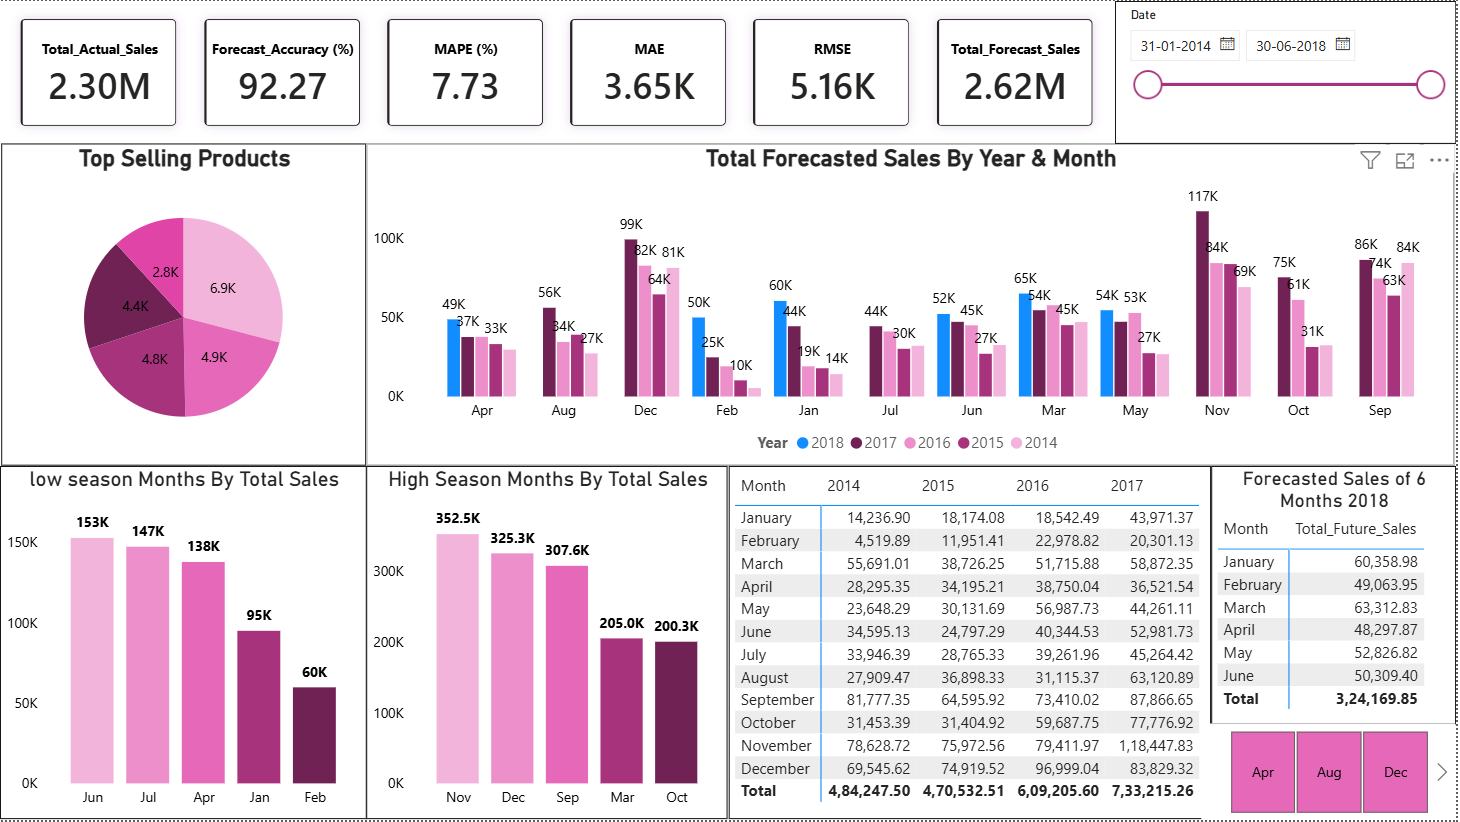

The page's visual inventory and layout, read from the dashboard file:
{"tool":"powerbi","page":{"name":"Page 1","canvas":[1280,720],"ordinal":0},"visuals":[{"type":"cardVisual","fields":{"Data":["sales_forecast_powerbi.Total_Actual_Sales","sales_forecast_powerbi.Forecast_Accuracy (%)","sales_forecast_powerbi.MAPE (%)","sales_forecast_powerbi.MAE","sales_forecast_powerbi.RMSE","sales_forecast_powerbi.Total_Forecast_Sales"]},"box":[1.9,0,977,126.6],"z":0},{"type":"pivotTable","fields":{"Rows":["sales_forecast_powerbi.YearMonth.Variation.Date Hierarchy.Month"],"Values":["Sum(sales_forecast_powerbi.Actual_sales)"],"Columns":["sales_forecast_powerbi.Year"]},"box":[640.5,408.8,424,310.4],"z":1000},{"type":"pivotTable","title":"Forecasted Sales of 6 Months 2018","fields":{"Values":["sales_forecast_powerbi.Total_Future_Sales"],"Rows":["sales_forecast_powerbi.YearMonth.Variation.Date Hierarchy.Month"]},"box":[1064.5,408.8,215,227.1],"z":2000},{"type":"pieChart","title":"Top Selling Products","fields":{"Category":["SuperStoreCleaned.Product Name"],"Y":["Sum(SuperStoreCleaned.Sales)"]},"box":[1.5,125.7,321,283.2],"z":3000},{"type":"lineStackedColumnComboChart","title":"low season Months By Total Sales","fields":{"Category":["sales_forecast_powerbi.Month_Name"],"Y":["sales_forecast_powerbi.Total_Actual_Sales"]},"box":[0,408.8,322.5,310.4],"z":4000},{"type":"lineStackedColumnComboChart","title":"High Season Months By Total Sales","fields":{"Category":["sales_forecast_powerbi.Month_Name"],"Y":["sales_forecast_powerbi.Total_Actual_Sales"]},"box":[322.5,408.8,318,310.4],"z":5000},{"type":"clusteredColumnChart","title":"Total Forecasted Sales By Year & Month","fields":{"Category":["sales_forecast_powerbi.Month_Name"],"Series":["sales_forecast_powerbi.YearMonth.Variation.Date Hierarchy.Year"],"Y":["sales_forecast_powerbi.Total_Forecast_Sales"]},"box":[322.5,125.7,957,283.2],"z":6000},{"type":"slicer","fields":{"Values":["sales_forecast_powerbi.Date"]},"box":[979.7,0,299.8,125.7],"z":7000},{"type":"slicer","fields":{"Values":["sales_forecast_powerbi.Month_Name"]},"box":[1056.4,635,223,85],"z":8000}]}

Visuals, with their boxes in screenshot pixels (x1, y1, x2, y2), scaled from the page's 1280x720 canvas onto the 1460x822 screenshot:
cardVisual - sales_forecast_powerbi.Total_Actual_Sales x sales_forecast_powerbi.Forecast_Accuracy (%): left=2, top=0, right=1117, bottom=145
pivotTable - sales_forecast_powerbi.YearMonth.Variation.Date Hierarchy.Month x Sum(sales_forecast_powerbi.Actual_sales): left=731, top=467, right=1214, bottom=821
"Forecasted Sales of 6 Months 2018" pivotTable: left=1214, top=467, right=1459, bottom=726
"Top Selling Products" pieChart: left=2, top=144, right=368, bottom=467
"low season Months By Total Sales" lineStackedColumnComboChart: left=0, top=467, right=368, bottom=821
"High Season Months By Total Sales" lineStackedColumnComboChart: left=368, top=467, right=731, bottom=821
"Total Forecasted Sales By Year & Month" clusteredColumnChart: left=368, top=144, right=1459, bottom=467
slicer - sales_forecast_powerbi.Date: left=1117, top=0, right=1459, bottom=144
slicer - sales_forecast_powerbi.Month_Name: left=1205, top=725, right=1459, bottom=821
